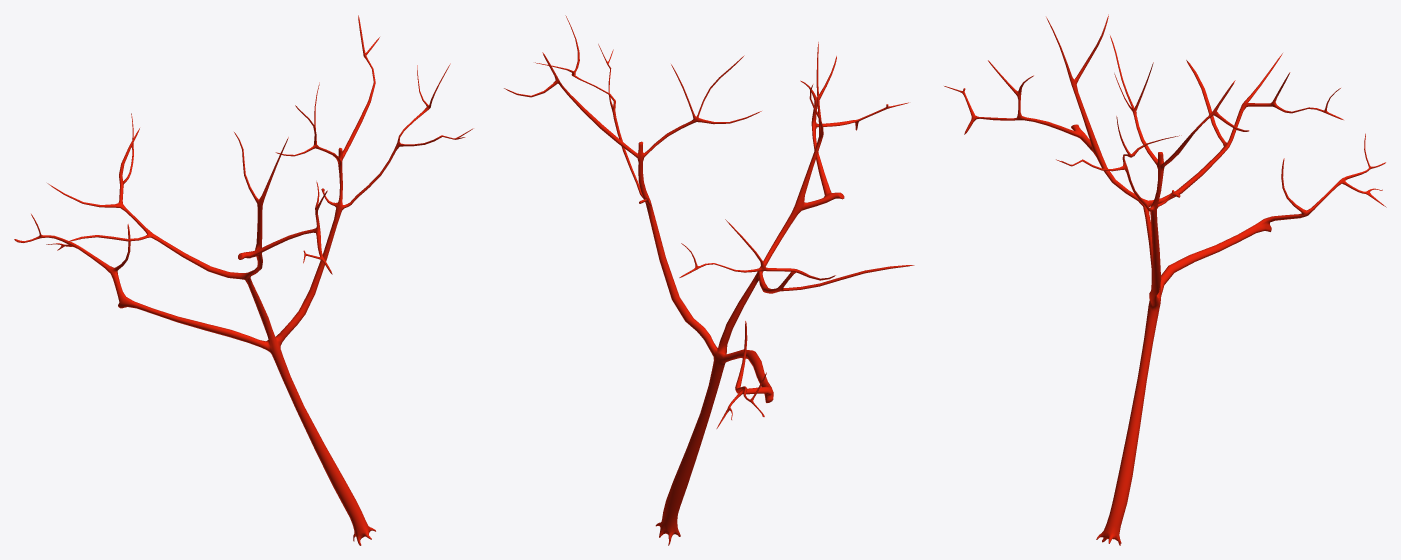
File: tree.fbx
3 views of the same model, side by side, from view 1: azimuth 30°, elevation 25°; view 2: azimuth 150°, elevation 25°; view 3: azimuth 270°, elevation 25° (orthographic). The views are drawn at different scales.
Visible parts, largest first — view 1: tree_low; view 2: tree_low; view 3: tree_low.
Part boxes in pixels (x1,y1,x2,y2): tree_low: (14,15,473,545); tree_low: (504,15,914,545); tree_low: (944,14,1386,545).
Size of the model in its own units: 4841 by 6256 by 5069.
